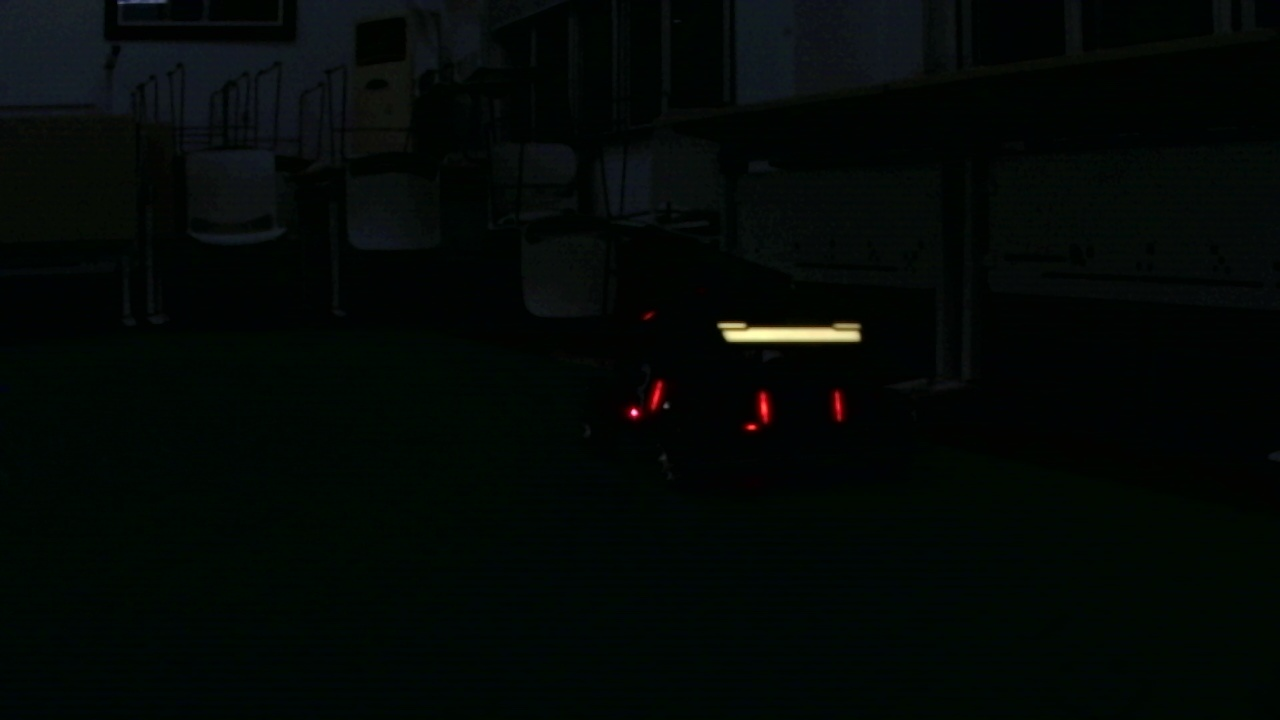lamp: (758, 386, 774, 428), (649, 375, 666, 410), (830, 388, 844, 427)
pair1: (755, 391, 845, 421)
